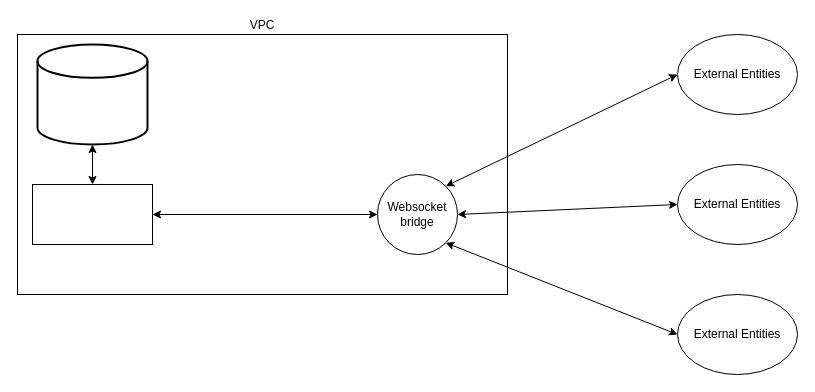
This 815x392 diagram has some shape labels left out. Here are the shapes that lost their labels. From the top down, the centre of each, then its label:
At (92,94): "VectorDB".
At (92,214): "LLM".
